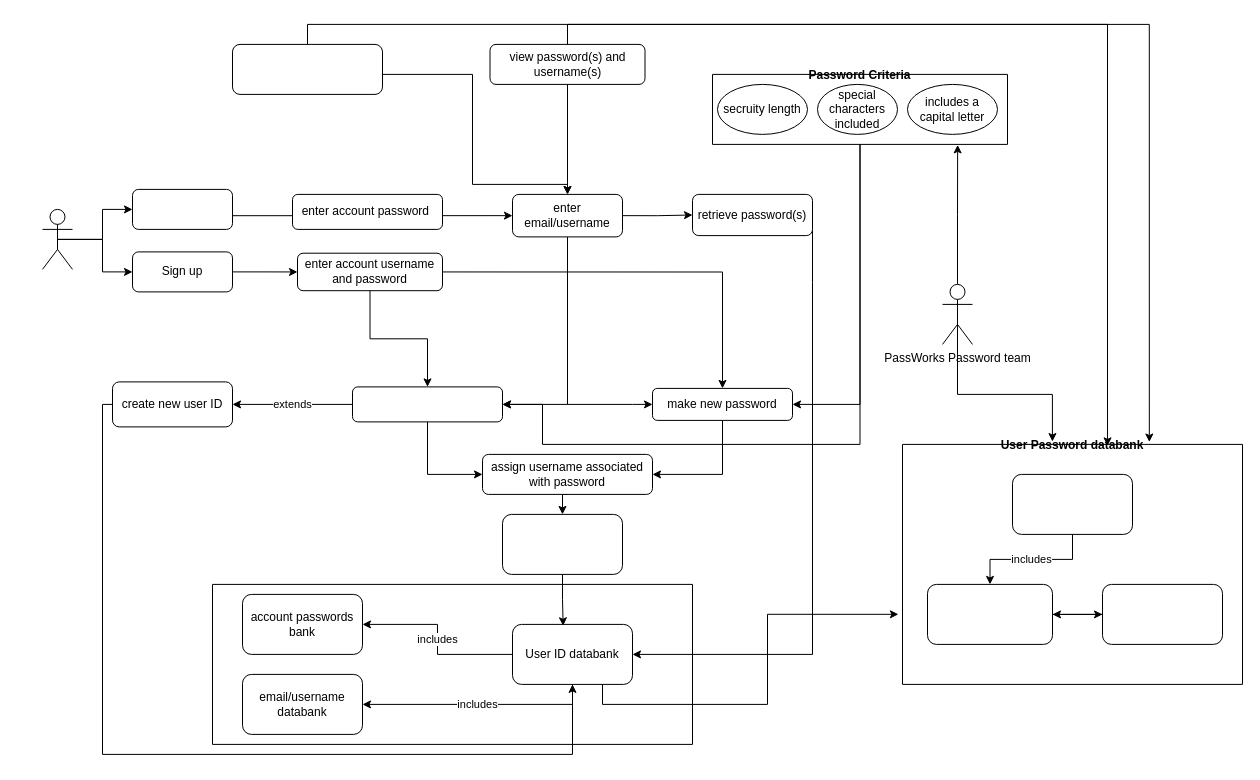
Image size: 1260x780. Some labels were removed from this diagram. Here are the shapes that lost their labels. From the top down, the box of each, then its label:
(232, 43, 382, 94): delete password(s) and username(s)
(132, 188, 232, 229): Login
(42, 208, 72, 269): User/Company
(352, 386, 502, 422): Generate new password
(1012, 473, 1132, 534): User ID
(502, 513, 622, 574): store password and Username
(926, 583, 1052, 644): Stored passwords
(1102, 583, 1222, 644): associated usernames
(212, 583, 692, 744): User Account databank
